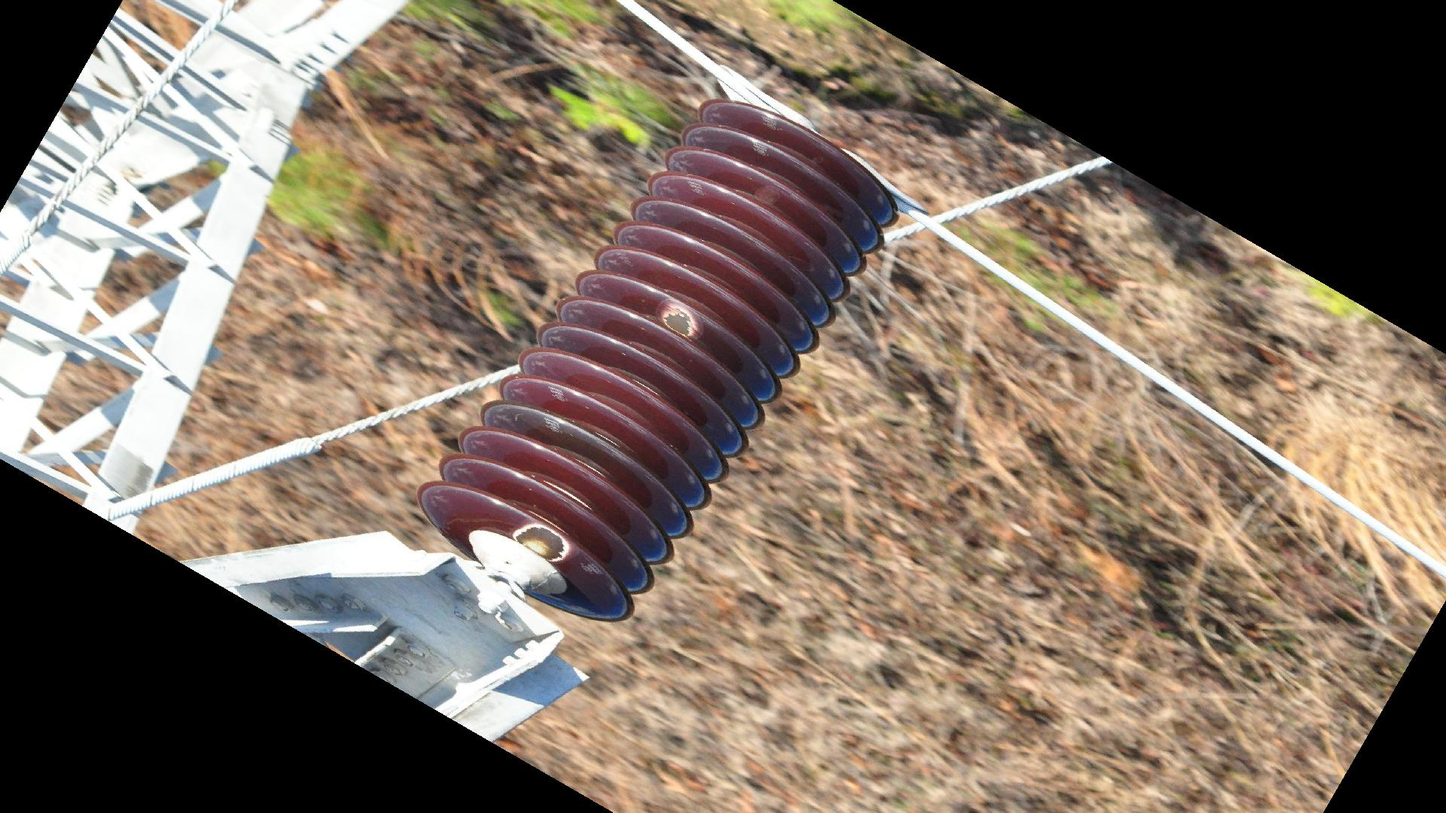insulator: (408, 94, 907, 631)
insulator_flashover: (511, 519, 571, 566), (657, 300, 701, 342)
